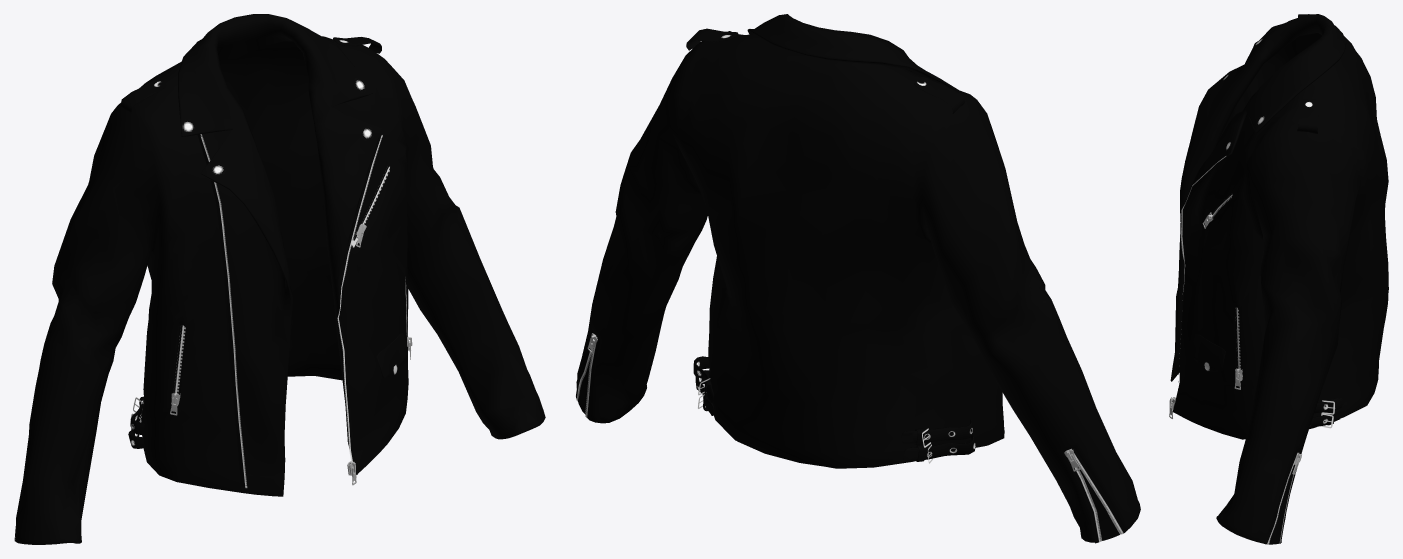
File: jacket.glb
3 renders of one model, left to right at view 1: azimuth 30°, elevation 25°; view 2: azimuth 150°, elevation 25°; view 3: azimuth 270°, elevation 25°, orthographic. The views are drawn at different scales.
Visible parts, largest first — view 1: Jaicket_main_lp, Chian_Side, pPlane4, polySurface21, polySurface37; view 2: Jaicket_main_lp, polySurface21, Straps3, Straps2, pPlane15, pPlane14; view 3: Jaicket_main_lp, polySurface37, polySurface21, pPlane4, pPlane7, pPlane13, Straps1.
Boxes of the visible parts, bbox=[...] form: Jaicket_main_lp: bbox=[15, 14, 545, 544]; Chian_Side: bbox=[197, 134, 247, 488]; pPlane4: bbox=[337, 135, 382, 478]; polySurface21: bbox=[121, 37, 381, 113]; polySurface37: bbox=[376, 333, 407, 377]; Jaicket_main_lp: bbox=[577, 14, 1140, 542]; polySurface21: bbox=[686, 28, 964, 113]; Straps3: bbox=[903, 435, 975, 461]; Straps2: bbox=[901, 419, 972, 443]; pPlane15: bbox=[1069, 447, 1126, 534]; pPlane14: bbox=[1062, 450, 1101, 543]; Jaicket_main_lp: bbox=[1170, 14, 1388, 544]; polySurface37: bbox=[1191, 334, 1225, 372]; polySurface21: bbox=[1297, 14, 1318, 133]; pPlane4: bbox=[1172, 155, 1226, 412]; pPlane7: bbox=[1234, 307, 1242, 380]; pPlane13: bbox=[1265, 452, 1298, 543]; Straps1: bbox=[1309, 409, 1341, 428].
Bounding box in the file's own units: 8.69 × 7.12 × 3.44.
Materials: 4 (3 with a texture image).
